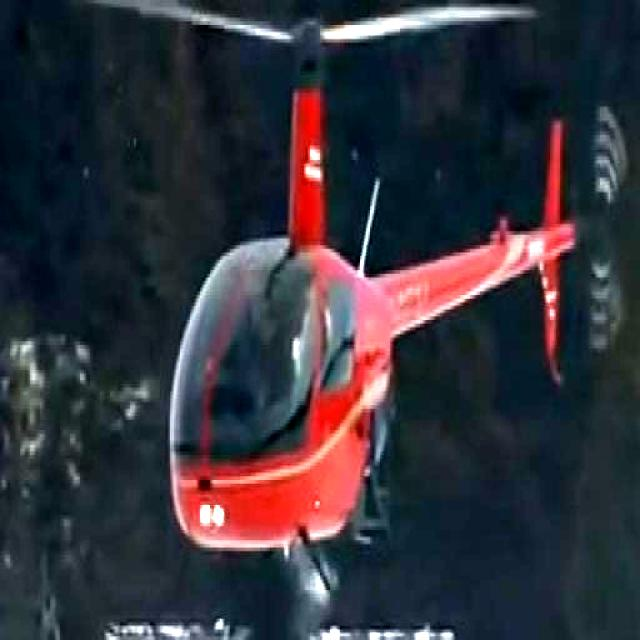drone: (59, 0, 636, 640)
